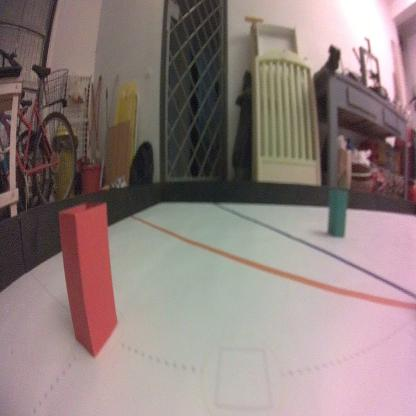green: (326, 183, 348, 242)
red: (57, 200, 120, 360)
